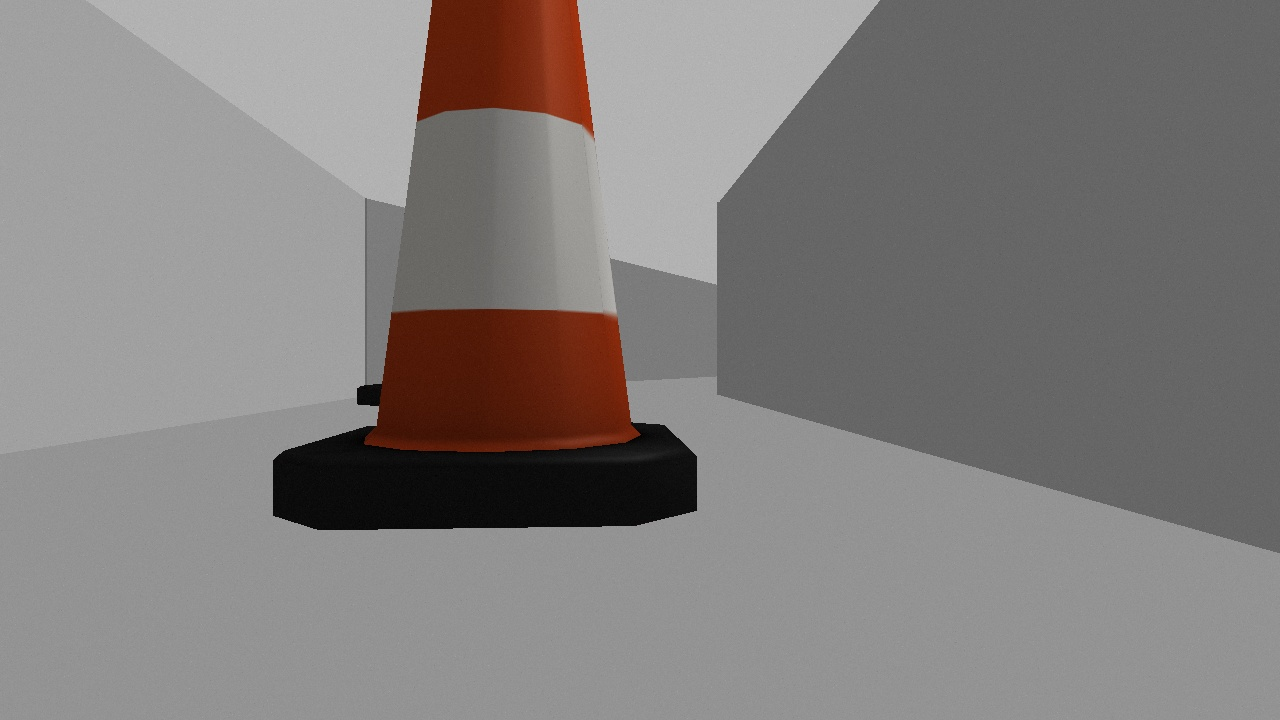barricade: (226, 1, 740, 545)
